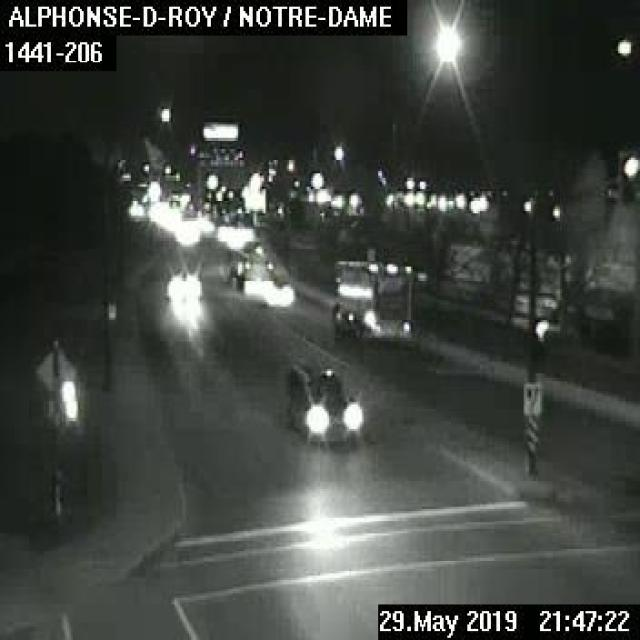vehicle: (282, 353, 364, 440), (327, 256, 411, 336), (163, 269, 203, 301)
